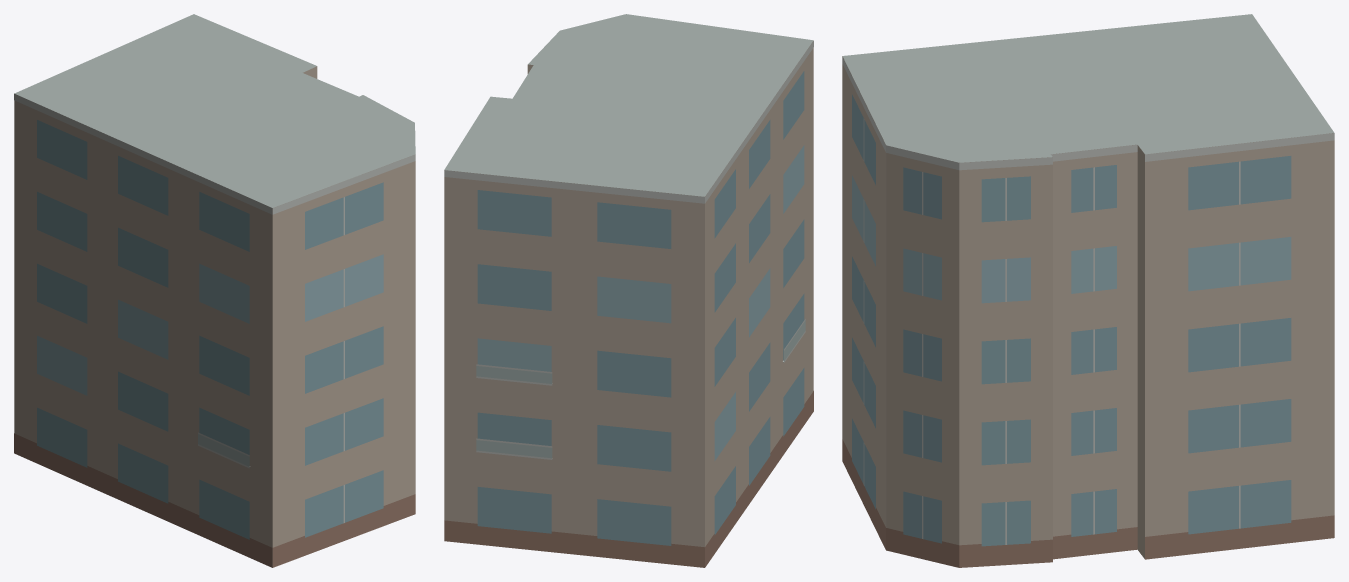
Rendered from survey-upis-32640467.glb.
The picture shows the model from 3 angles, left to right: view 1: azimuth 30°, elevation 25°; view 2: azimuth 150°, elevation 25°; view 3: azimuth 270°, elevation 25°; orthographic projection. The views are drawn at different scales.
Visible parts, largest first — view 1: survey-upis-32640467.tmp; view 2: survey-upis-32640467.tmp; view 3: survey-upis-32640467.tmp.
Boxes of the visible parts, x1,y1,x2,y2 form: survey-upis-32640467.tmp: [14, 14, 415, 567]; survey-upis-32640467.tmp: [444, 14, 813, 567]; survey-upis-32640467.tmp: [842, 14, 1334, 567].
Bounding box in the file's own units: 10.32 × 13.1 × 14.43.
